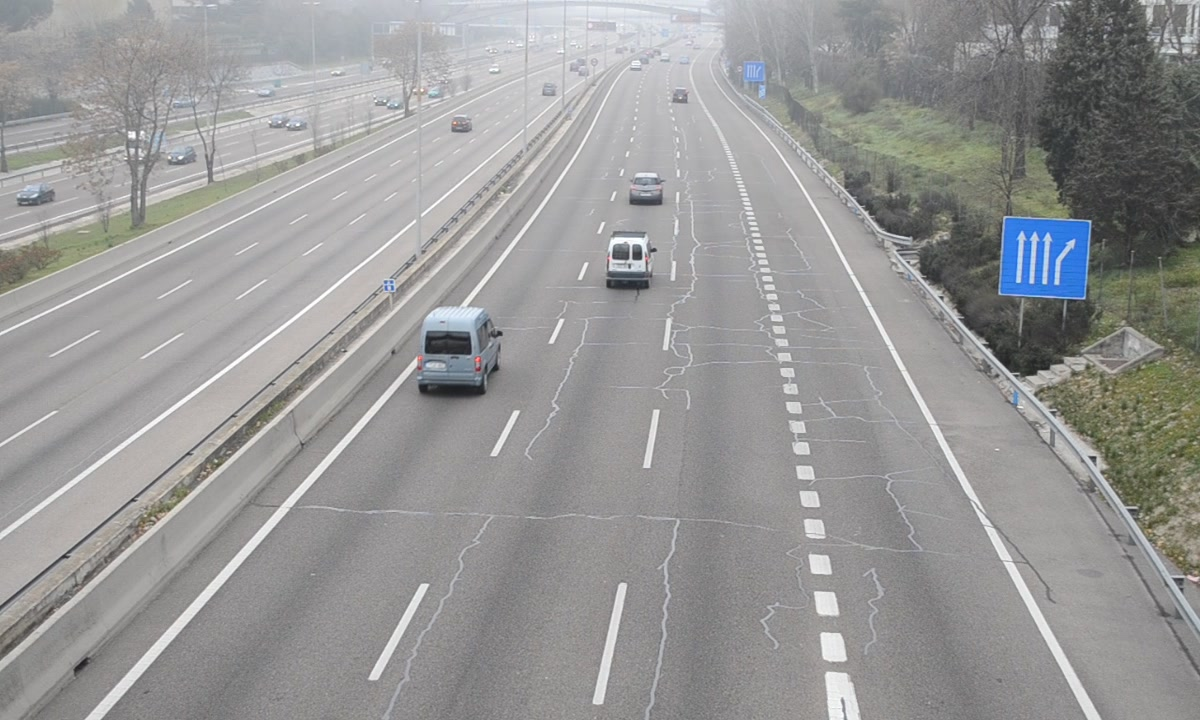car: (628, 172, 666, 207)
van: (419, 310, 499, 389), (605, 233, 651, 287)
